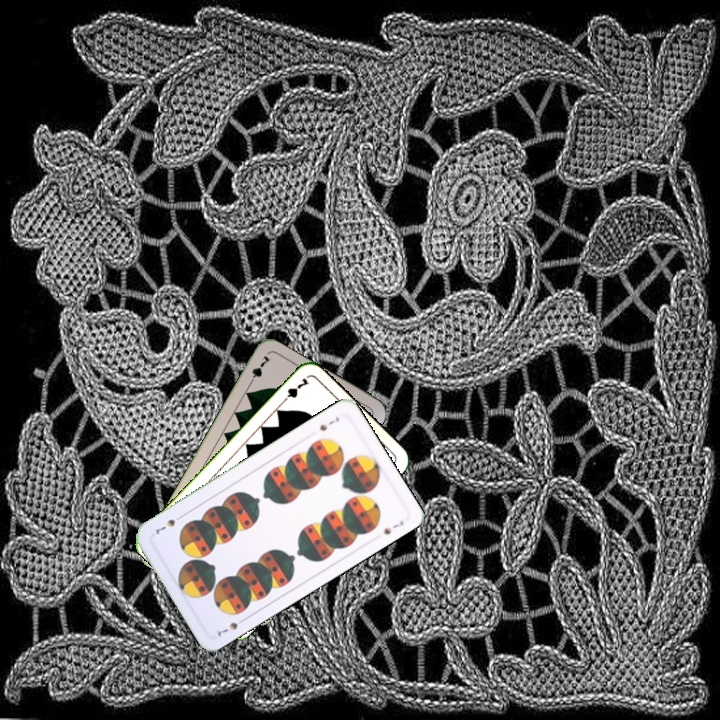G7: (277, 374, 311, 406), (244, 352, 273, 389)
S7: (213, 614, 249, 639), (315, 413, 342, 434)
